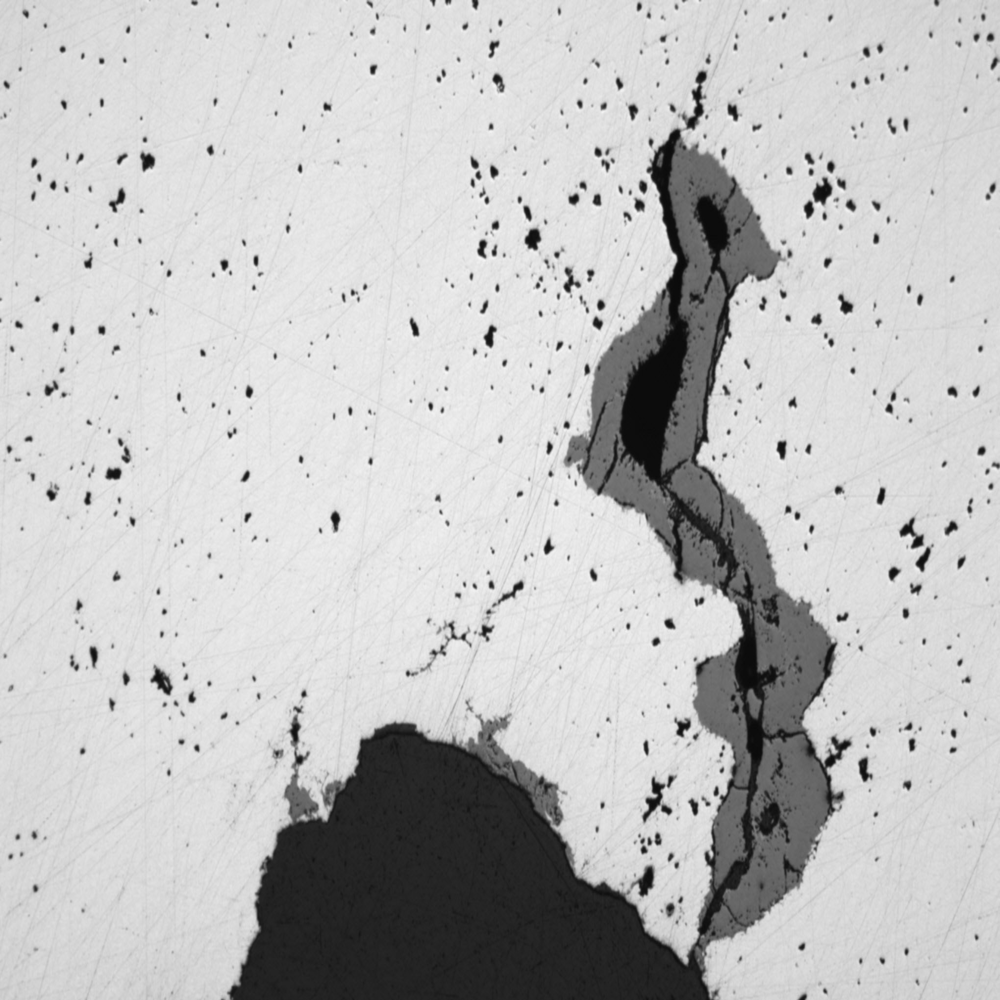crack: (553, 86, 852, 992), (225, 692, 716, 1000)
